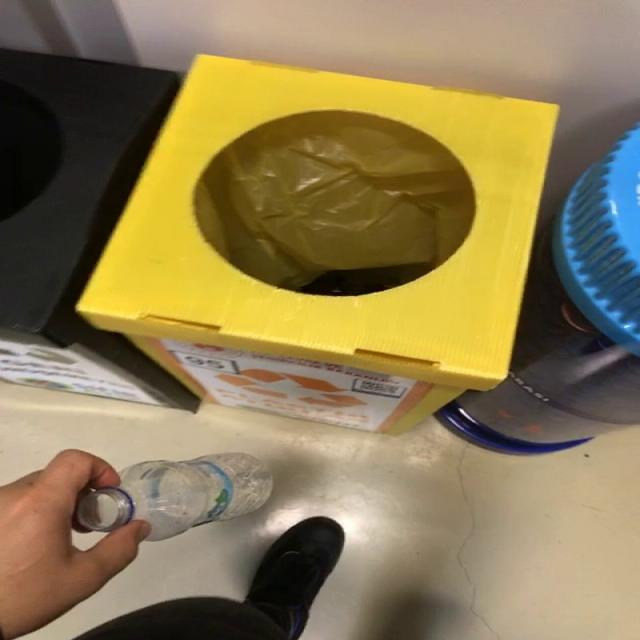plastic: (76, 454, 273, 542)
